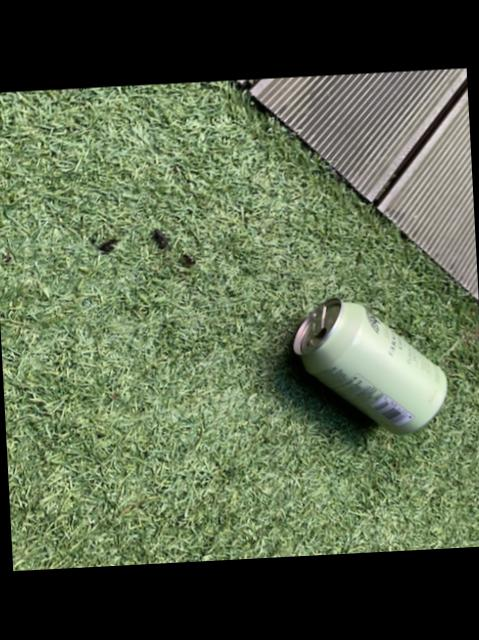metal: (247, 68, 478, 297)
